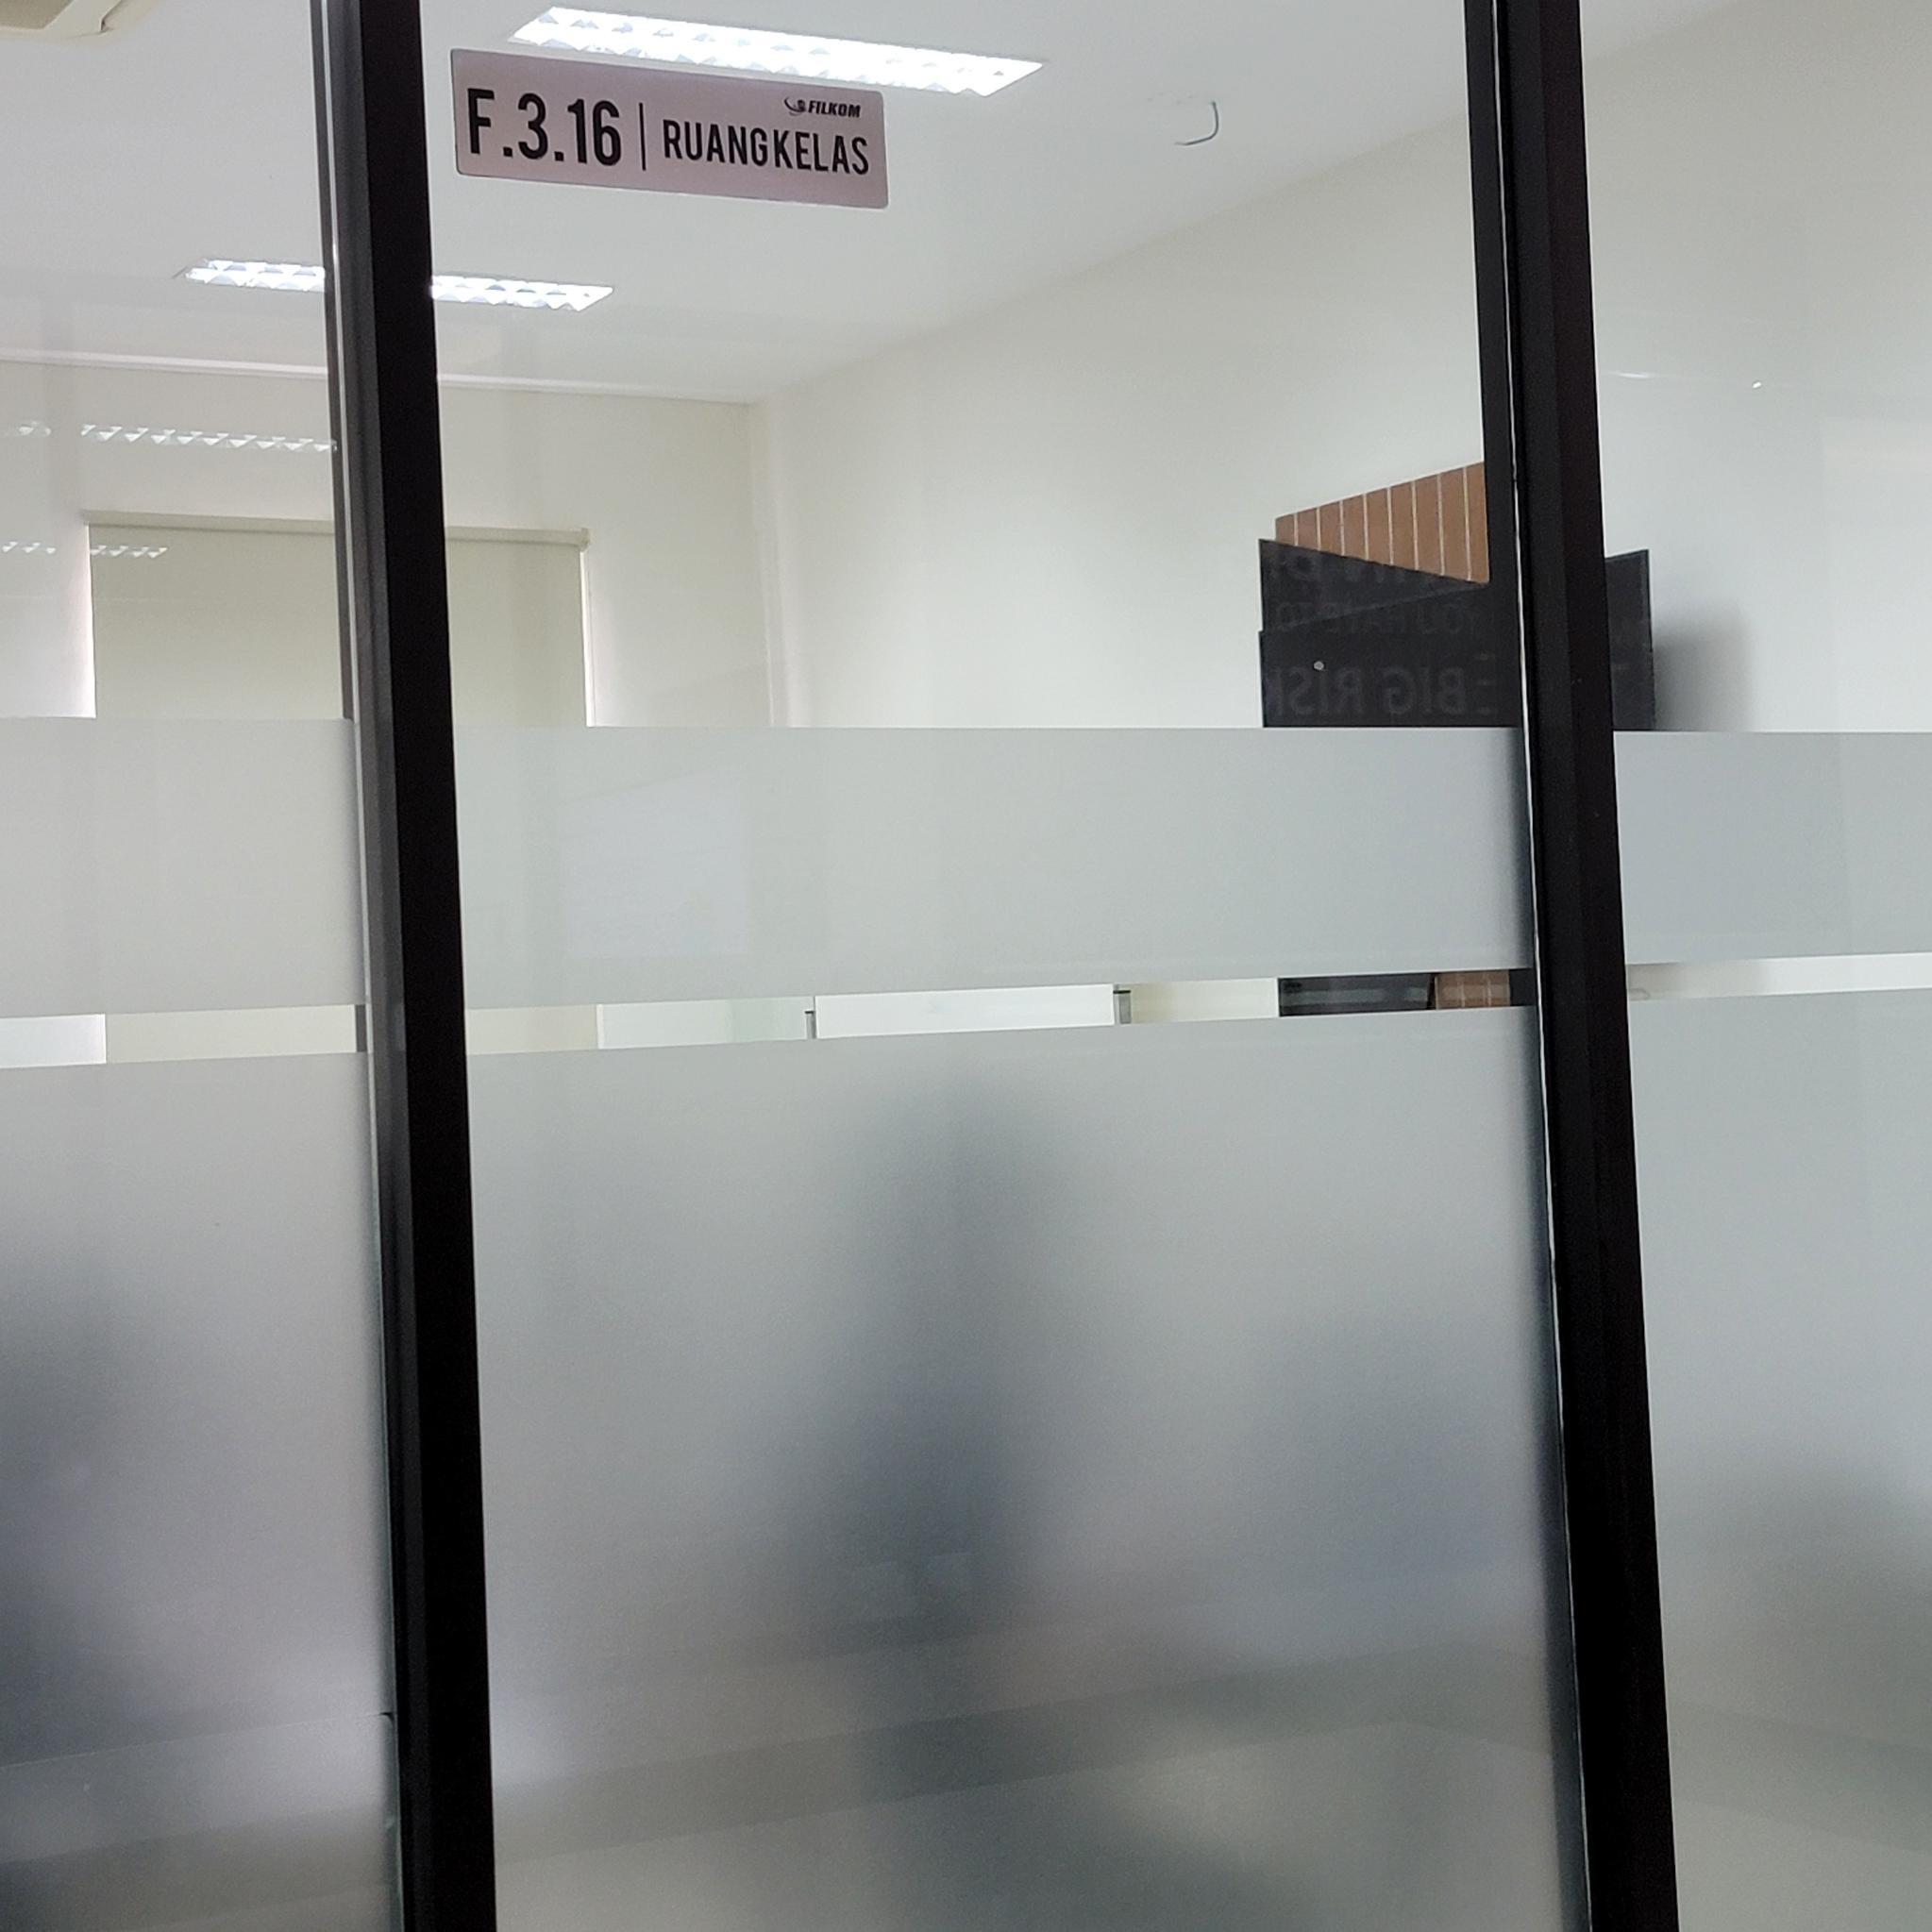plate: (451, 50, 886, 211)
